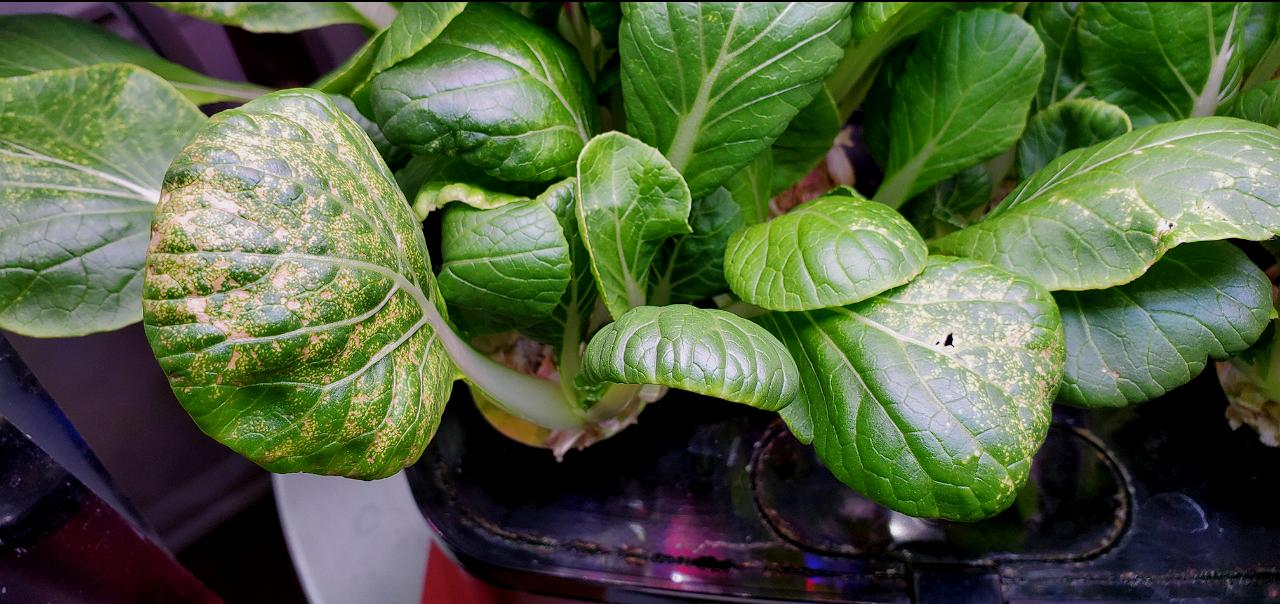Bok-Choy-Diseased: (142, 86, 460, 474), (768, 249, 1061, 525), (946, 111, 1280, 288), (0, 76, 194, 323)
